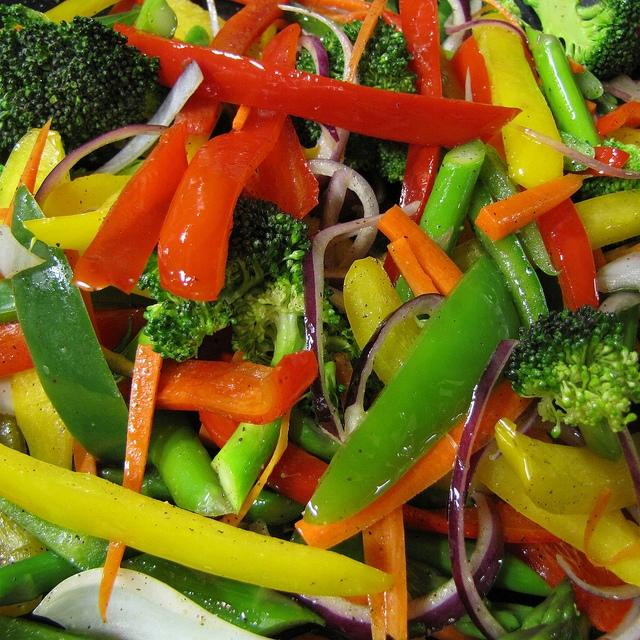bell pepper: (1, 443, 397, 598), (303, 255, 522, 524), (114, 22, 524, 148), (157, 23, 301, 301), (11, 183, 129, 467), (477, 444, 640, 588), (68, 121, 190, 296), (120, 553, 325, 637), (472, 13, 564, 190), (118, 350, 319, 426), (396, 140, 486, 303), (493, 417, 637, 515), (467, 174, 549, 330), (0, 307, 148, 378), (398, 0, 442, 226), (147, 410, 235, 514), (526, 27, 602, 146), (1, 498, 110, 570), (535, 198, 600, 314), (450, 36, 508, 164), (0, 129, 70, 226), (256, 115, 320, 221), (402, 503, 565, 544), (22, 190, 122, 256), (11, 367, 74, 471), (405, 557, 492, 622), (0, 550, 81, 607), (41, 173, 134, 218), (573, 189, 640, 250), (364, 0, 452, 46), (504, 542, 568, 588), (166, 0, 224, 46), (564, 146, 630, 178), (44, 1, 121, 26), (292, 3, 344, 37), (596, 102, 640, 136), (0, 278, 18, 324), (382, 10, 402, 33)
broccoli: (138, 196, 312, 362), (1, 4, 162, 156), (290, 15, 418, 184), (504, 304, 640, 462), (228, 260, 340, 368), (522, 0, 640, 80), (569, 138, 639, 204)
carrot: (295, 379, 536, 550), (154, 351, 319, 426), (0, 308, 146, 378), (376, 204, 464, 296), (450, 36, 508, 166), (474, 173, 583, 242), (402, 504, 566, 545), (122, 342, 164, 493), (362, 504, 407, 640), (0, 118, 52, 228), (346, 0, 388, 84), (386, 235, 440, 298), (575, 146, 631, 177), (481, 0, 527, 37), (298, 0, 372, 22), (597, 100, 640, 136), (73, 439, 99, 476), (430, 624, 482, 640), (232, 106, 252, 130), (592, 248, 608, 270), (568, 58, 584, 73), (584, 99, 596, 115)
